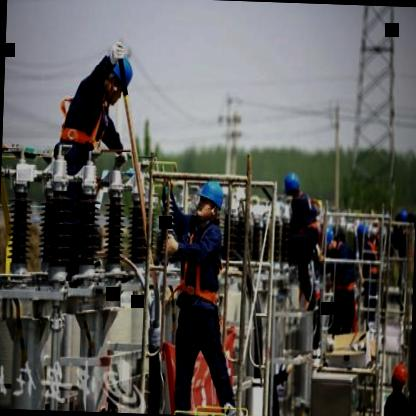helmet: (101, 47, 133, 112), (193, 177, 226, 227), (386, 363, 410, 396), (282, 171, 302, 205), (317, 222, 335, 259)
